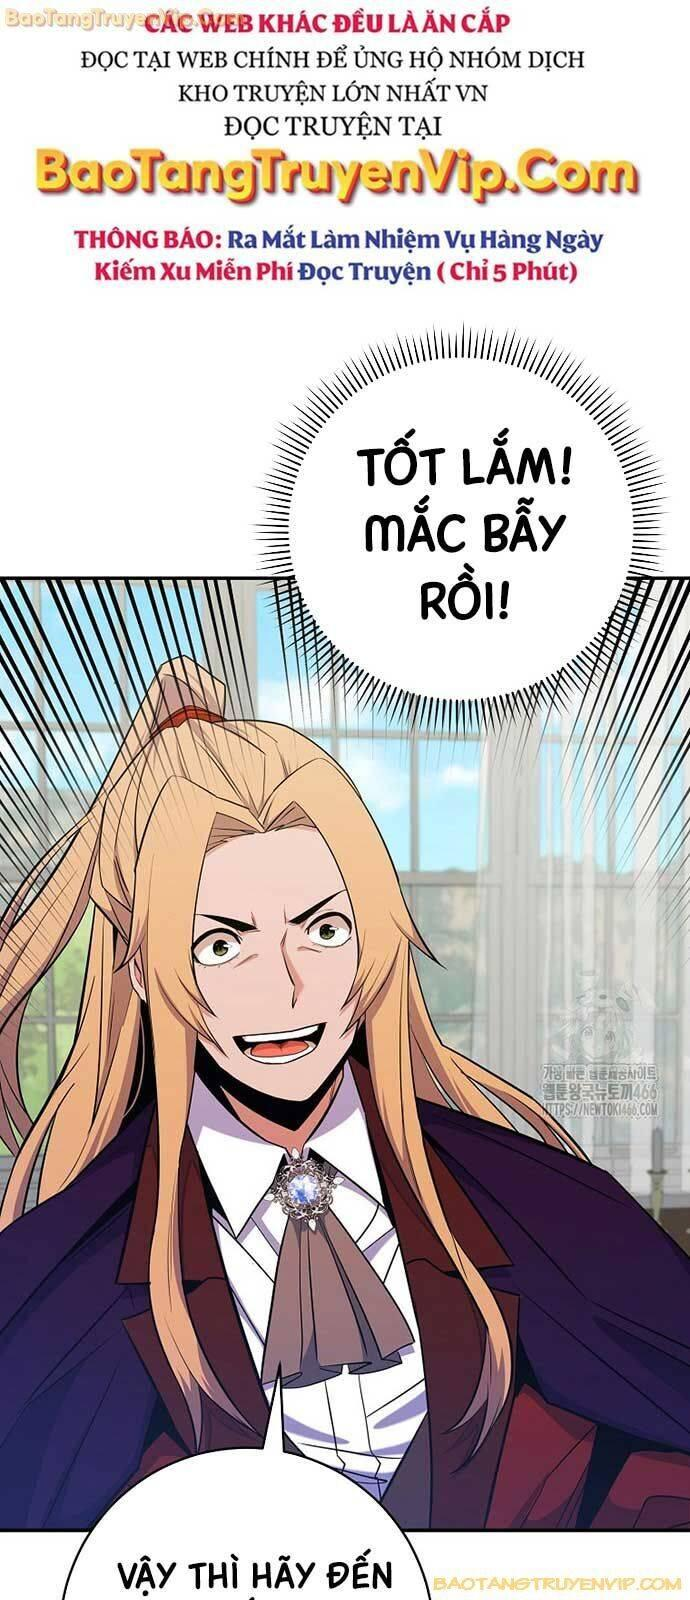quangcao: (30, 6, 648, 282)
